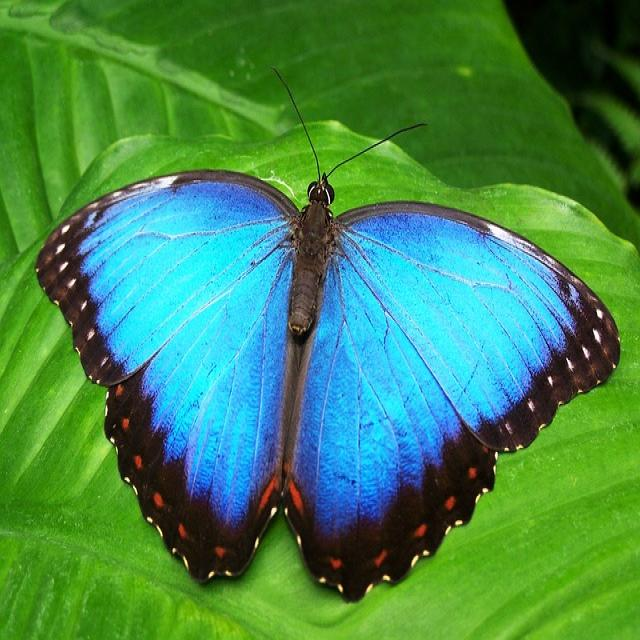butterfly: (36, 170, 620, 599)
